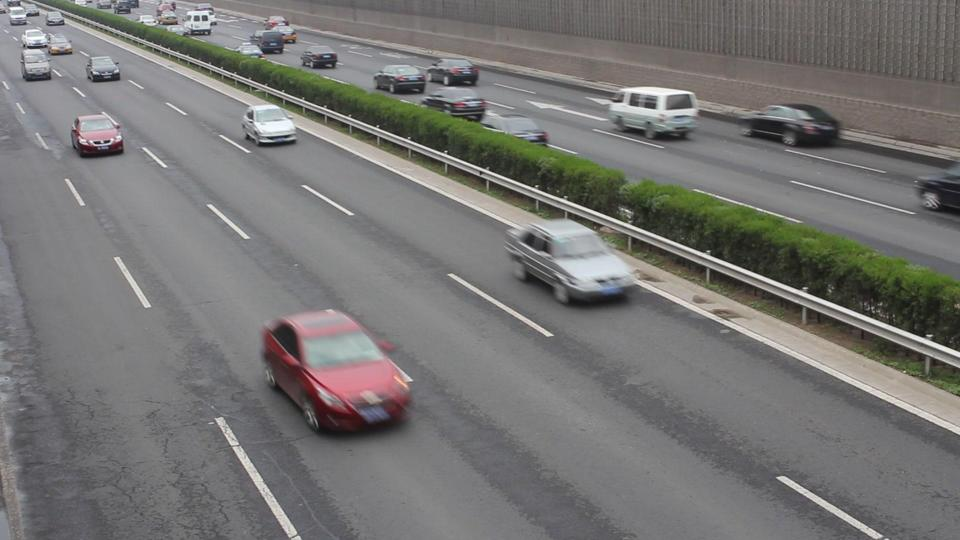car: (259, 308, 417, 434), (502, 218, 641, 305), (735, 103, 841, 147), (71, 112, 125, 157), (240, 105, 299, 146), (420, 85, 486, 121), (914, 161, 960, 212), (480, 112, 551, 145), (373, 65, 429, 94), (426, 58, 480, 86), (21, 48, 52, 81), (299, 45, 339, 69), (85, 56, 121, 82), (250, 30, 287, 54), (21, 29, 51, 49), (47, 35, 75, 56), (7, 6, 28, 26)
truck: (607, 86, 700, 140), (181, 7, 216, 35)
